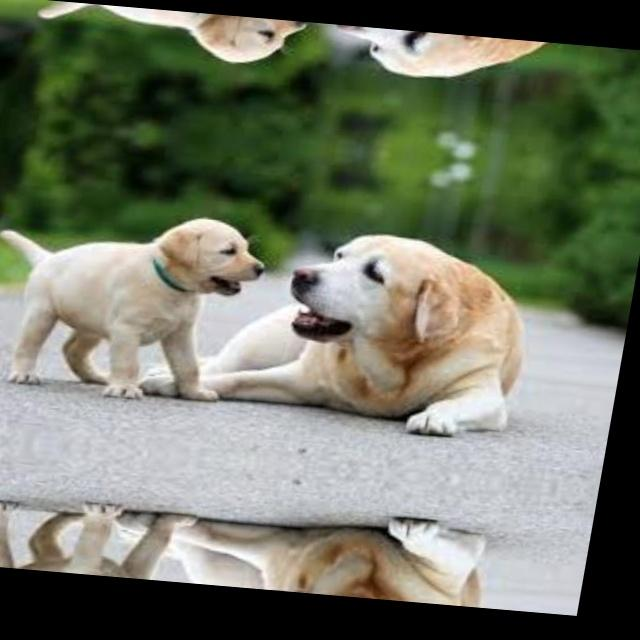dog: (0, 188, 274, 407), (270, 210, 497, 374), (28, 0, 306, 79), (0, 490, 221, 585), (319, 24, 530, 102), (231, 566, 435, 604)
